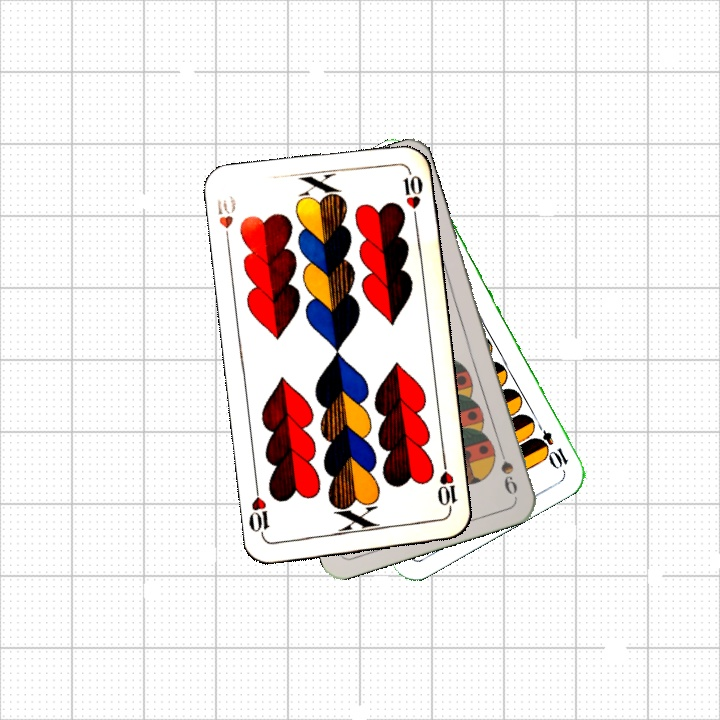E10: (529, 416, 571, 471)
H10: (433, 457, 460, 516), (213, 191, 239, 249)
S9: (494, 440, 520, 498)
